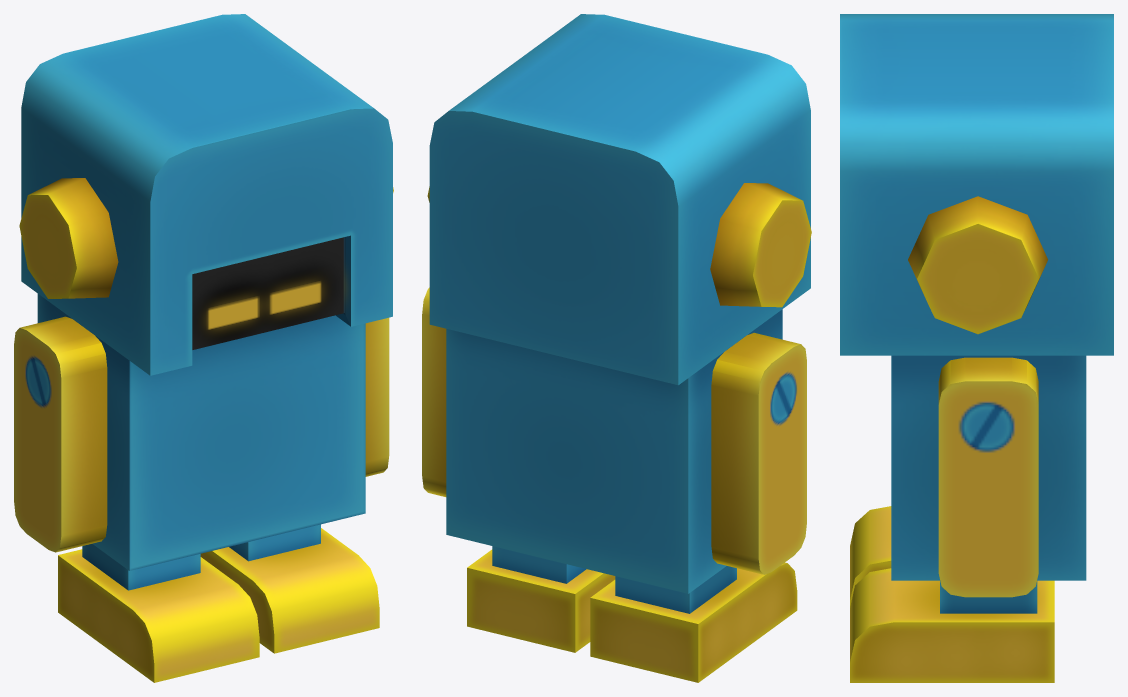
Rendered from robot.FBX.
3 renders of one model, left to right at view 1: azimuth 30°, elevation 25°; view 2: azimuth 150°, elevation 25°; view 3: azimuth 270°, elevation 25°, orthographic. The views are drawn at different scales.
Parts seen in each view (by area): view 1: robot; view 2: robot; view 3: robot.
Part boxes in pixels (x1=…): robot: x1=14, y1=14, x2=393, y2=682; robot: x1=422, y1=14, x2=811, y2=682; robot: x1=840, y1=14, x2=1113, y2=682.
Bounding box in the file's own units: 27.79 × 42.94 × 18.94.
